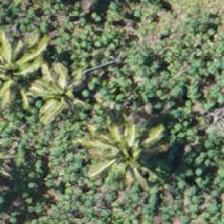coconut_tree: (88, 115, 178, 205), (18, 54, 108, 144), (0, 34, 59, 124)
